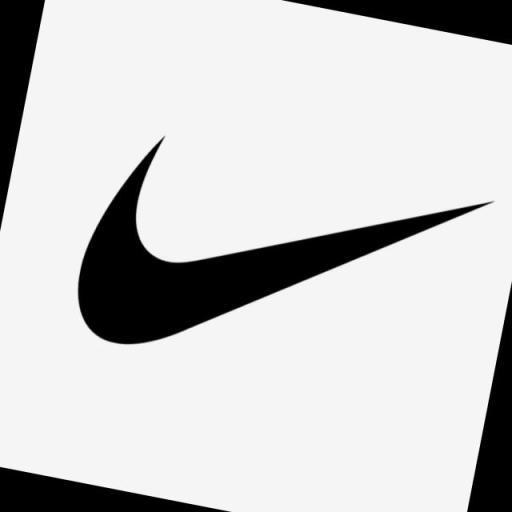Nike: (69, 122, 501, 410)
